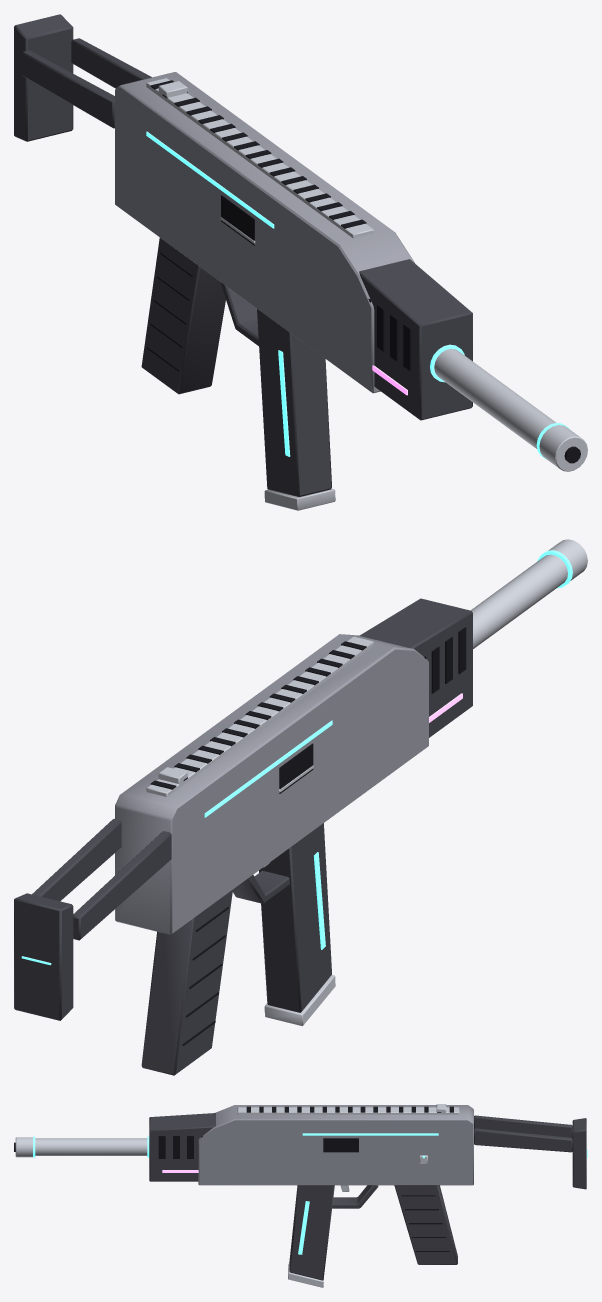
The model's file is w_smg.glb.
The picture shows the model from 3 angles, top to bottom: view 1: azimuth 30°, elevation 25°; view 2: azimuth 150°, elevation 25°; view 3: azimuth 270°, elevation 25°; orthographic projection. The views are drawn at different scales.
Visible parts, largest first — view 1: grip, body, metal, dark, acc; view 2: body, grip, metal, dark, acc; view 3: body, grip, metal, dark, acc.
Boxes of the visible parts, x1,y1,x2,y2 form: grip: (14, 14, 472, 496); body: (115, 72, 414, 393); metal: (146, 78, 587, 510); dark: (147, 80, 580, 463); acc: (146, 131, 569, 459); body: (115, 634, 428, 934); grip: (14, 598, 472, 1075); metal: (146, 539, 587, 1025); dark: (150, 627, 466, 1045); acc: (21, 550, 572, 965); body: (198, 1105, 473, 1185); grip: (149, 1113, 586, 1280); metal: (15, 1104, 459, 1287); dark: (14, 1106, 453, 1251); acc: (33, 1133, 587, 1254).
Bounding box in the file's own units: 0.0666 × 0.3298 × 0.972.
